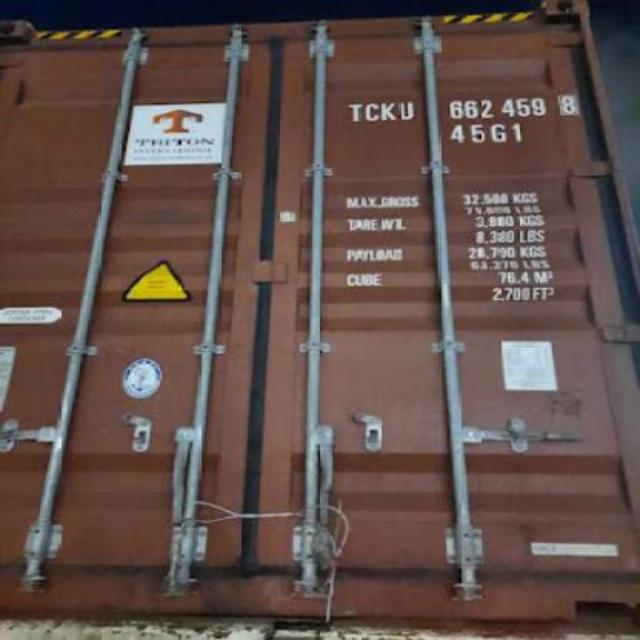2: (481, 89, 494, 121)
4: (500, 92, 516, 116)
5: (516, 95, 532, 119)
6: (442, 92, 464, 121), (464, 98, 482, 120)
8: (558, 94, 580, 114)
9: (530, 89, 546, 115)
C: (364, 100, 380, 122)
K: (378, 97, 396, 127)
T: (344, 96, 364, 124)
U: (396, 96, 416, 124)
